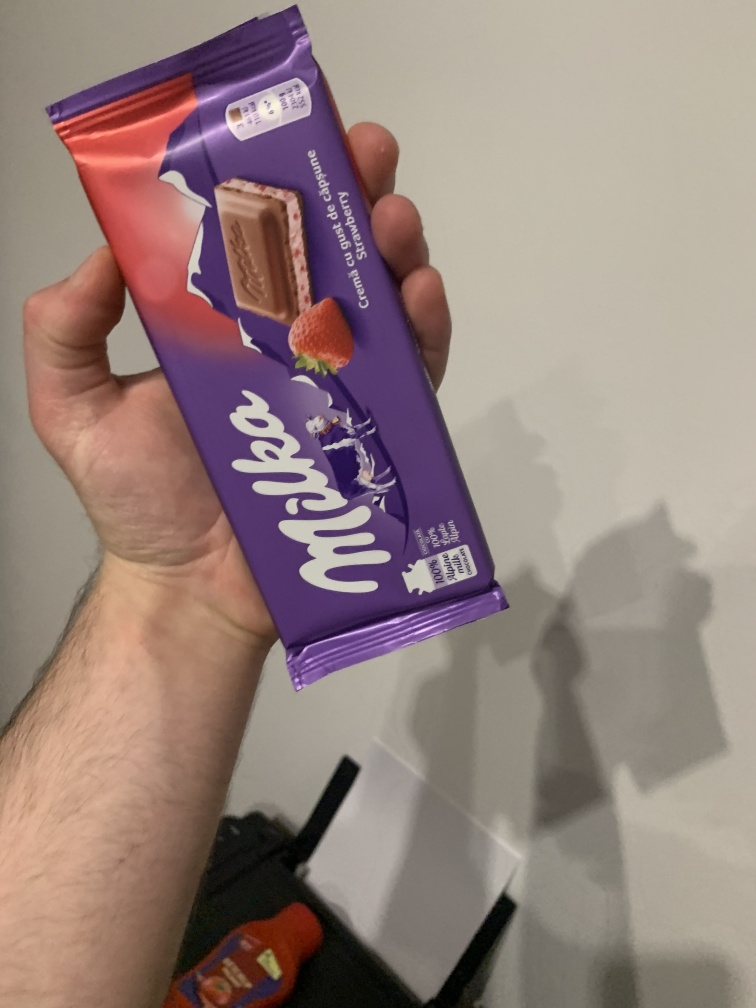ketchup: (159, 900, 333, 1008)
milka: (30, 2, 552, 713)
